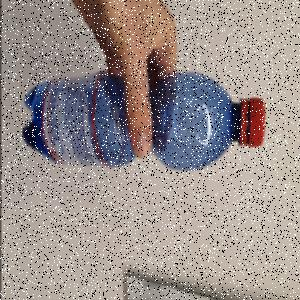Plastic-bottle: (20, 71, 267, 175)
